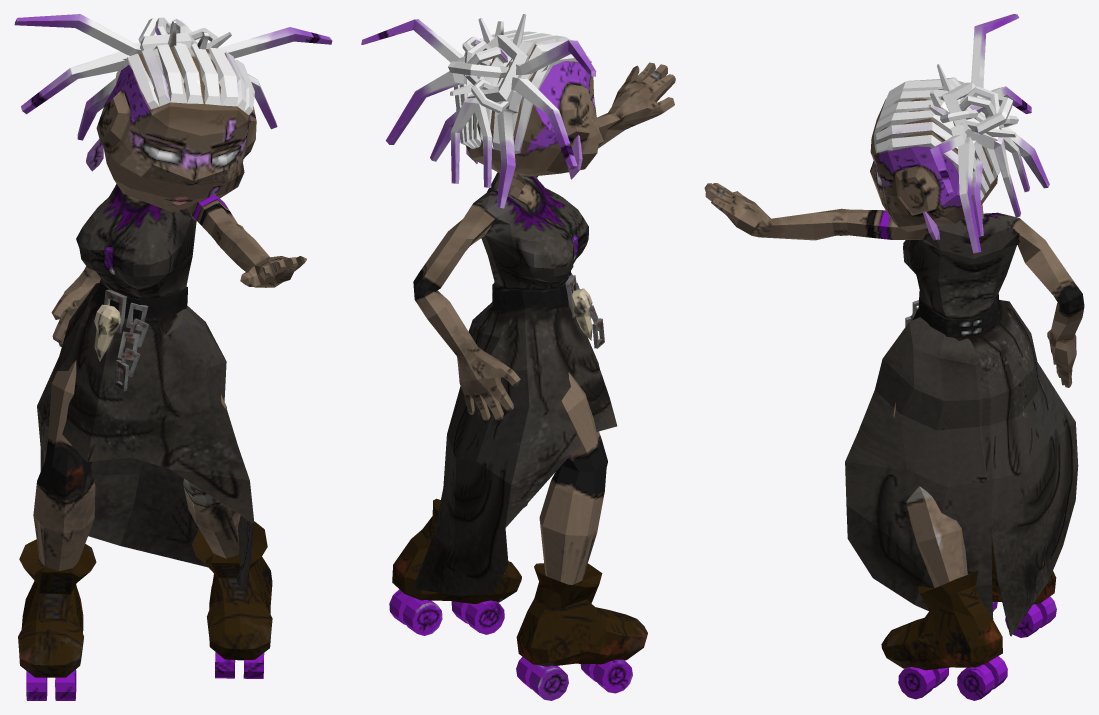
The model's file is bruja_000023.obj.
3 views of the same model, side by side, from view 1: azimuth 30°, elevation 25°; view 2: azimuth 150°, elevation 25°; view 3: azimuth 270°, elevation 25° (orthographic). The views are drawn at different scales.
Visible parts, largest first — view 1: Bruja_Plane.001; view 2: Bruja_Plane.001; view 3: Bruja_Plane.001.
Boxes of the visible parts, bbox=[...] form: Bruja_Plane.001: bbox=[14, 14, 332, 700]; Bruja_Plane.001: bbox=[361, 14, 675, 700]; Bruja_Plane.001: bbox=[704, 14, 1084, 700].
Bounding box in the file's own units: 7.76 × 16.37 × 9.24.
